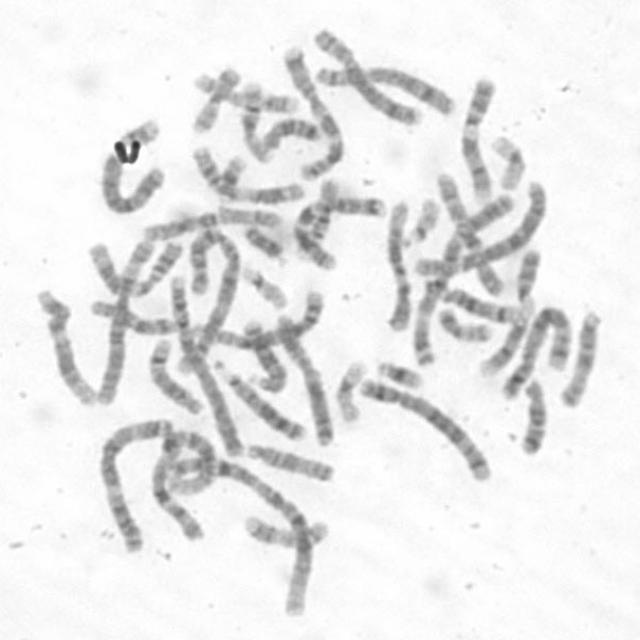A1: (152, 445, 318, 620), (143, 421, 221, 542)
A2: (85, 292, 335, 352), (168, 220, 242, 378)
A3: (403, 183, 519, 369), (90, 409, 174, 554)
B4: (163, 265, 246, 458), (100, 118, 167, 218)
B5: (351, 370, 495, 484), (494, 297, 574, 401)
C10: (429, 167, 510, 298), (136, 201, 284, 243)
C11: (184, 138, 306, 206), (79, 231, 184, 297)
C12: (29, 280, 100, 408), (378, 192, 414, 333)
C6: (407, 174, 552, 280), (88, 228, 158, 407)
C7: (275, 36, 348, 182), (287, 187, 388, 266)
C8: (306, 20, 425, 128), (308, 54, 462, 118)
C9: (472, 240, 544, 379), (454, 68, 499, 204)
D13: (206, 353, 310, 445), (237, 311, 290, 394)
D14: (141, 330, 205, 416), (428, 275, 522, 324)
D15: (551, 302, 604, 410), (239, 434, 338, 483)
E16: (234, 73, 273, 164), (304, 172, 344, 246)
E17: (185, 62, 303, 114), (235, 506, 332, 550)
E18: (253, 108, 325, 157), (511, 370, 550, 457)
F19: (327, 351, 369, 425), (483, 126, 529, 191)
F20: (182, 58, 244, 135), (431, 299, 495, 344)
G21: (369, 351, 426, 391), (203, 150, 254, 193)
G22: (235, 256, 291, 310), (395, 189, 443, 248)
X: (266, 304, 336, 447)
Y: (237, 216, 286, 261)
